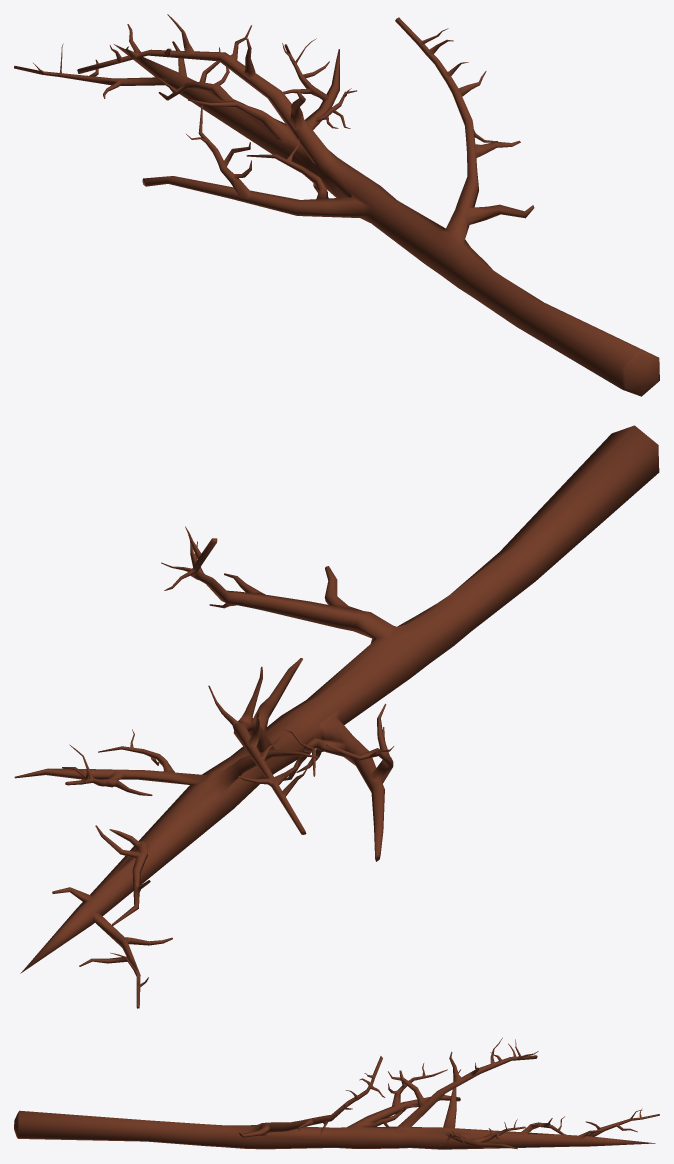
Rendered from SM_Branch_01.fbx.
3 views of the same model, one above another, from view 1: azimuth 30°, elevation 25°; view 2: azimuth 150°, elevation 25°; view 3: azimuth 270°, elevation 25° (orthographic). The views are drawn at different scales.
Visible parts, largest first — view 1: Branch; view 2: Branch; view 3: Branch.
Part boxes in pixels (x1=…): Branch: x1=14, y1=14, x2=659, y2=396; Branch: x1=14, y1=425, x2=659, y2=1008; Branch: x1=14, y1=1037, x2=659, y2=1149.
Size of what is drawn, in the model's own units: 44 by 28 by 150.
